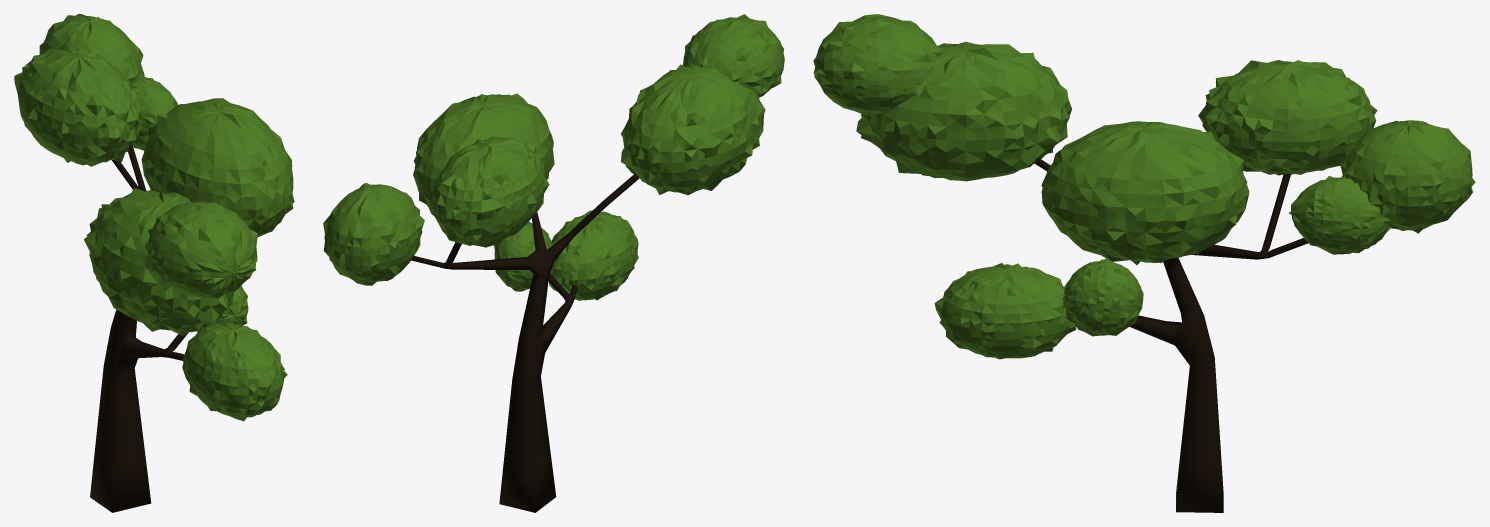
File: drzewo2.obj
The picture shows the model from 3 angles, left to right: view 1: azimuth 30°, elevation 25°; view 2: azimuth 150°, elevation 25°; view 3: azimuth 270°, elevation 25°; orthographic projection. The views are drawn at different scales.
Parts seen in each view (by area): view 1: liscie, liscie.001, liscie.003, Cube, liscie.008, liscie.004, liscie.002, liscie.005, liscie.007; view 2: liscie.003, Cube, liscie.001, liscie.002, liscie, liscie.004, liscie.008, liscie.007; view 3: liscie, liscie.003, liscie.001, Cube, liscie.002, liscie.004, liscie.008, liscie.005, liscie.007.
Part boxes in pixels (box(x1,y1,x2,y2)): liscie: box(141, 98, 294, 236); liscie.001: box(14, 43, 142, 166); liscie.003: box(84, 188, 234, 336); Cube: box(90, 144, 188, 512); liscie.008: box(144, 202, 257, 298); liscie.004: box(182, 319, 287, 421); liscie.002: box(39, 14, 144, 84); liscie.005: box(131, 75, 178, 150); liscie.007: box(197, 285, 248, 331); liscie.003: box(621, 64, 765, 195); Cube: box(411, 173, 639, 512); liscie.001: box(430, 136, 549, 247); liscie.002: box(323, 182, 424, 285); liscie: box(413, 93, 554, 216); liscie.004: box(549, 210, 638, 300); liscie.008: box(683, 14, 784, 97); liscie.007: box(494, 221, 552, 291); liscie: box(1041, 121, 1249, 264); liscie.003: box(856, 41, 1071, 181); liscie.001: box(1198, 60, 1377, 175); Cube: box(1034, 158, 1308, 512); liscie.002: box(1340, 120, 1475, 233); liscie.004: box(934, 263, 1076, 359); liscie.008: box(813, 14, 942, 116); liscie.005: box(1289, 176, 1391, 254); liscie.007: box(1062, 258, 1143, 336).
Size of the model in its own units: 1.78 by 2.77 by 3.72.
